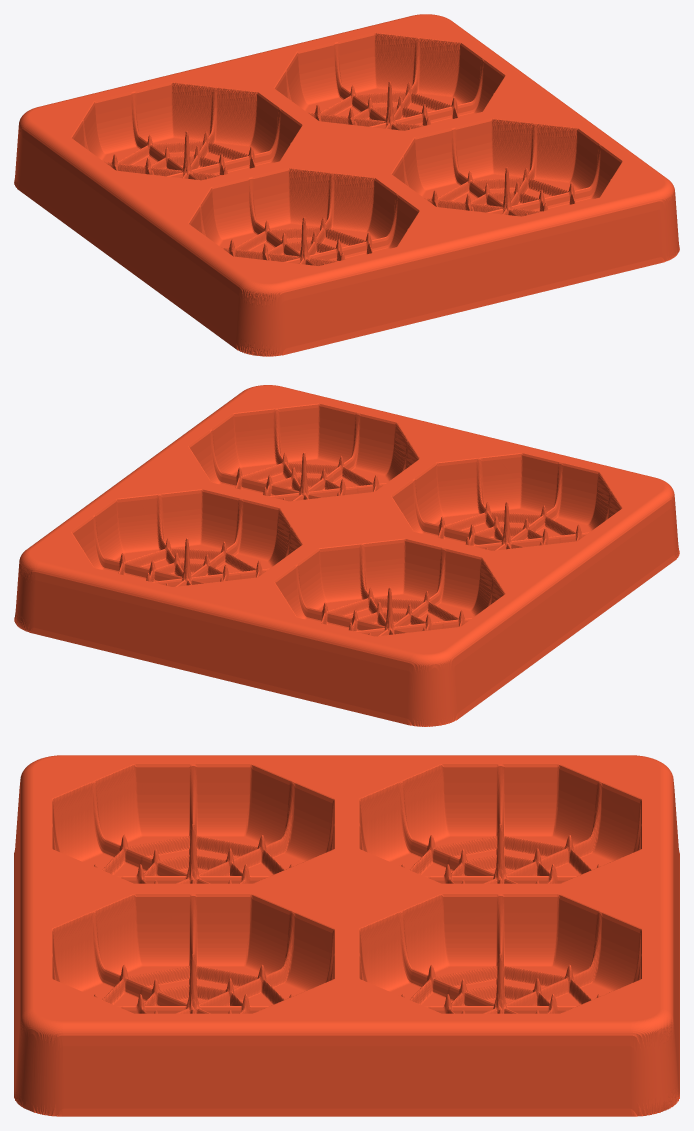
File: mold.glb
3 renders of one model, top to bottom at view 1: azimuth 30°, elevation 25°; view 2: azimuth 150°, elevation 25°; view 3: azimuth 270°, elevation 25°, orthographic. The views are drawn at different scales.
Parts seen in each view (by area): view 1: geometry_0; view 2: geometry_0; view 3: geometry_0.
Part boxes in pixels (box(x1,y1,x2,y2)): geometry_0: box(14, 14, 679, 356); geometry_0: box(14, 385, 679, 726); geometry_0: box(14, 755, 679, 1116).
Bounding box in the file's own units: 0.1211 × 0.0175 × 0.1211.
